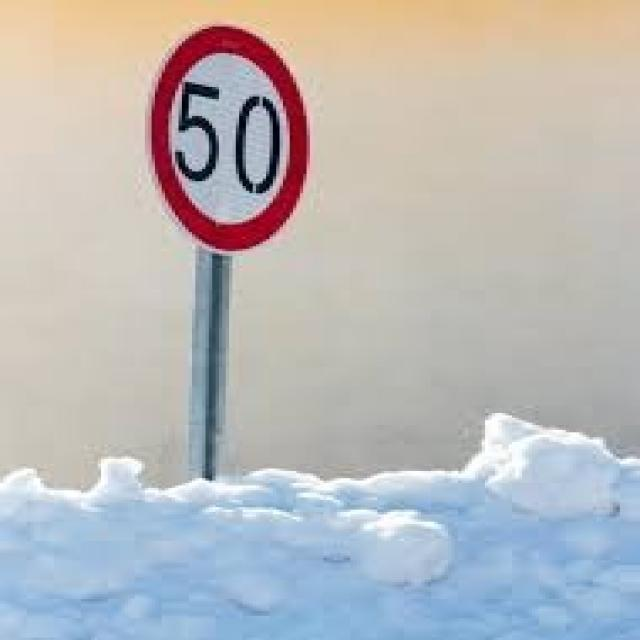speed_limit_50: (143, 18, 328, 270)
